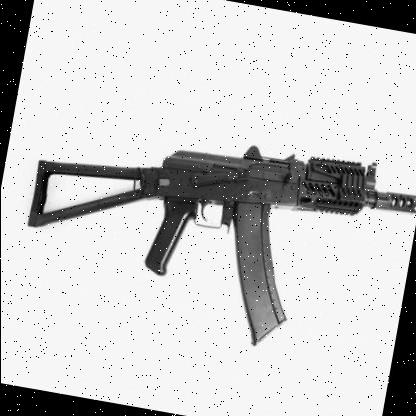rifle: (0, 98, 416, 391)
